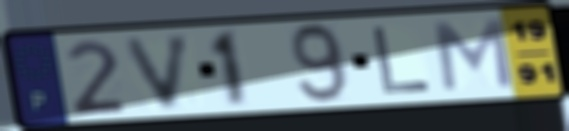1: (209, 26, 256, 111)
2: (60, 36, 131, 118)
9: (289, 20, 354, 107)
L: (368, 24, 435, 97)
M: (430, 16, 516, 93)
V: (120, 31, 197, 112)
